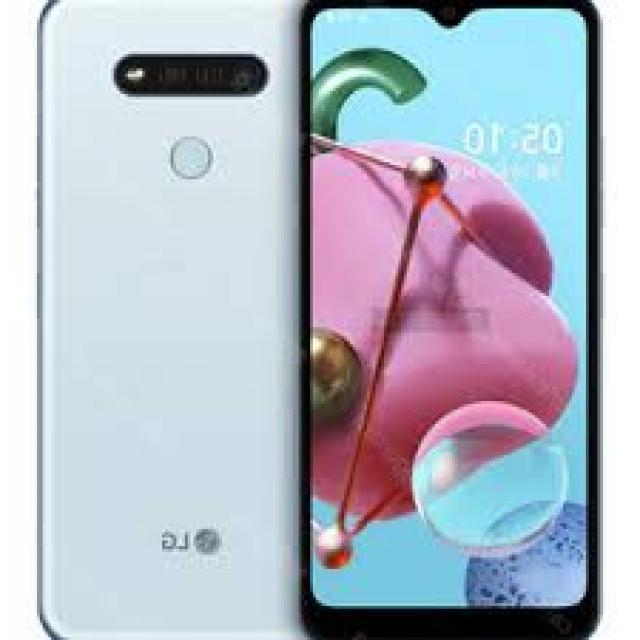mobile: (299, 5, 598, 636), (38, 1, 303, 640)
